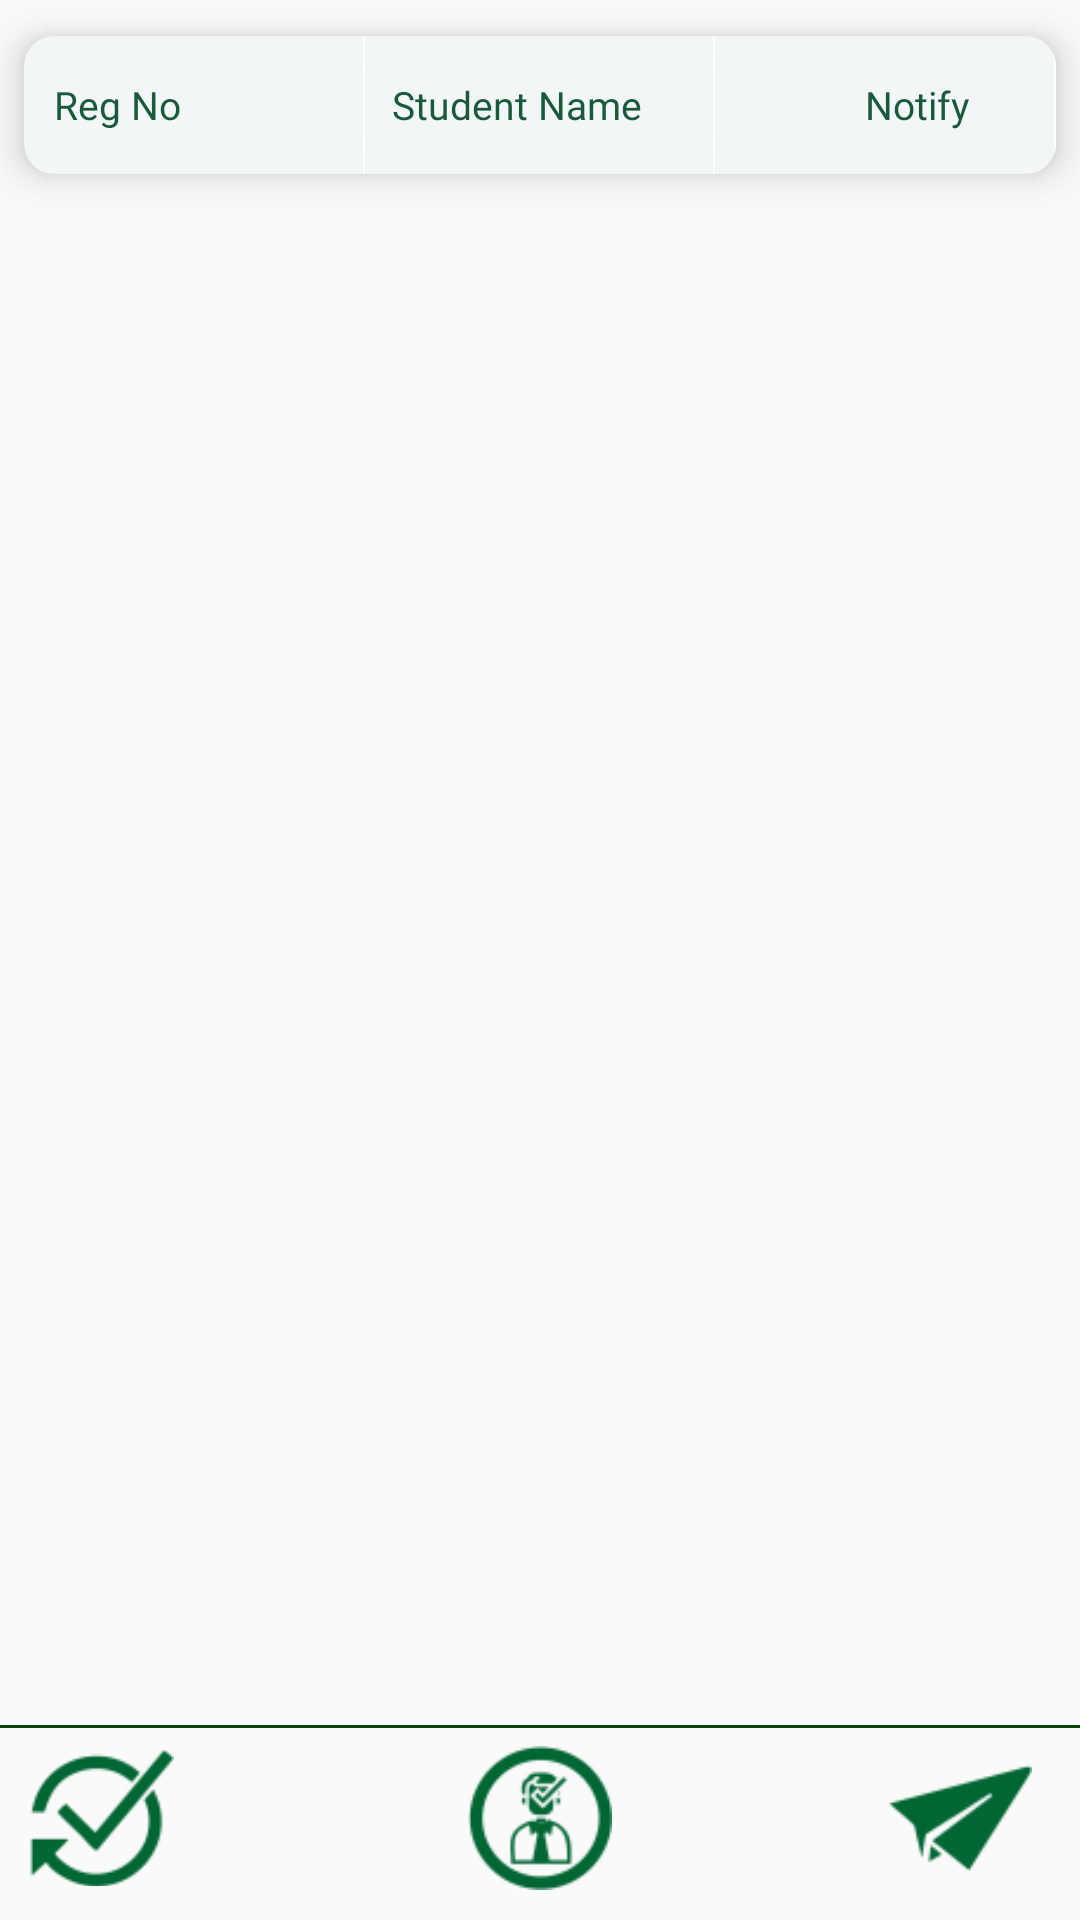

Icon click points for this 1080px×1920px phone screenshot, format point (x, y):
send: point (960, 1818)
student pick: point (540, 1818)
